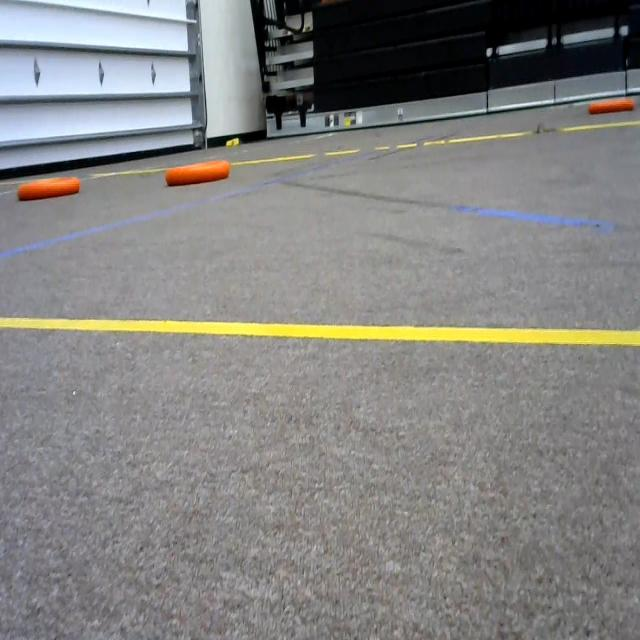note: (160, 149, 234, 203), (13, 170, 88, 213), (585, 86, 637, 118)
